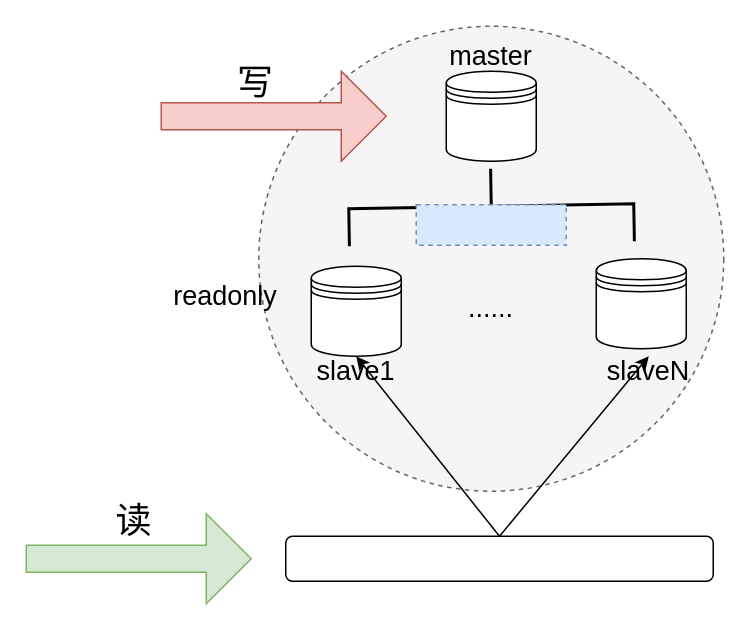
Some shapes in this 750 by 630 pixel diagram are drawn without their labels. Each missing label, with the centre of its shape:
HAProxy: the point at 498,558
slave从master同步数据: the point at 490,224
